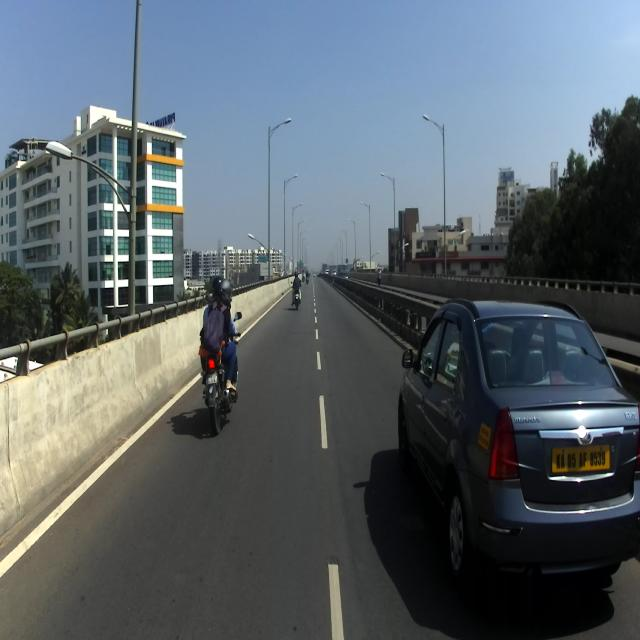car ahead at: (398, 297, 640, 601)
motorcycle ahead at: (198, 353, 247, 440)
